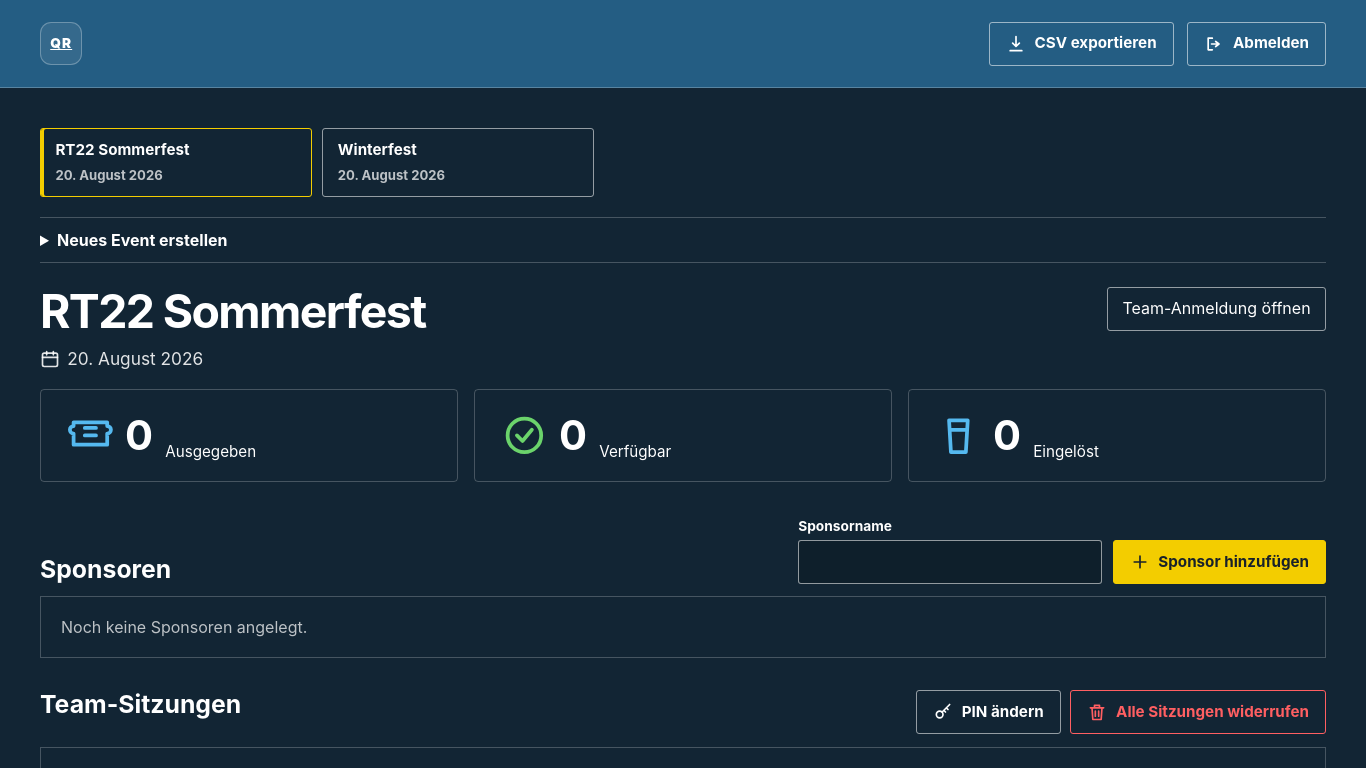
an admin can select another event without retaining stale event details
The width and height of the screenshot is (1366, 768).
Expected: the heading "RT22 Sommerfest" is shown, [40,283,426,339]
Step 1. Click the button "Winterfest 20. August 2026" → click(377, 150), box [322,128,594,197]
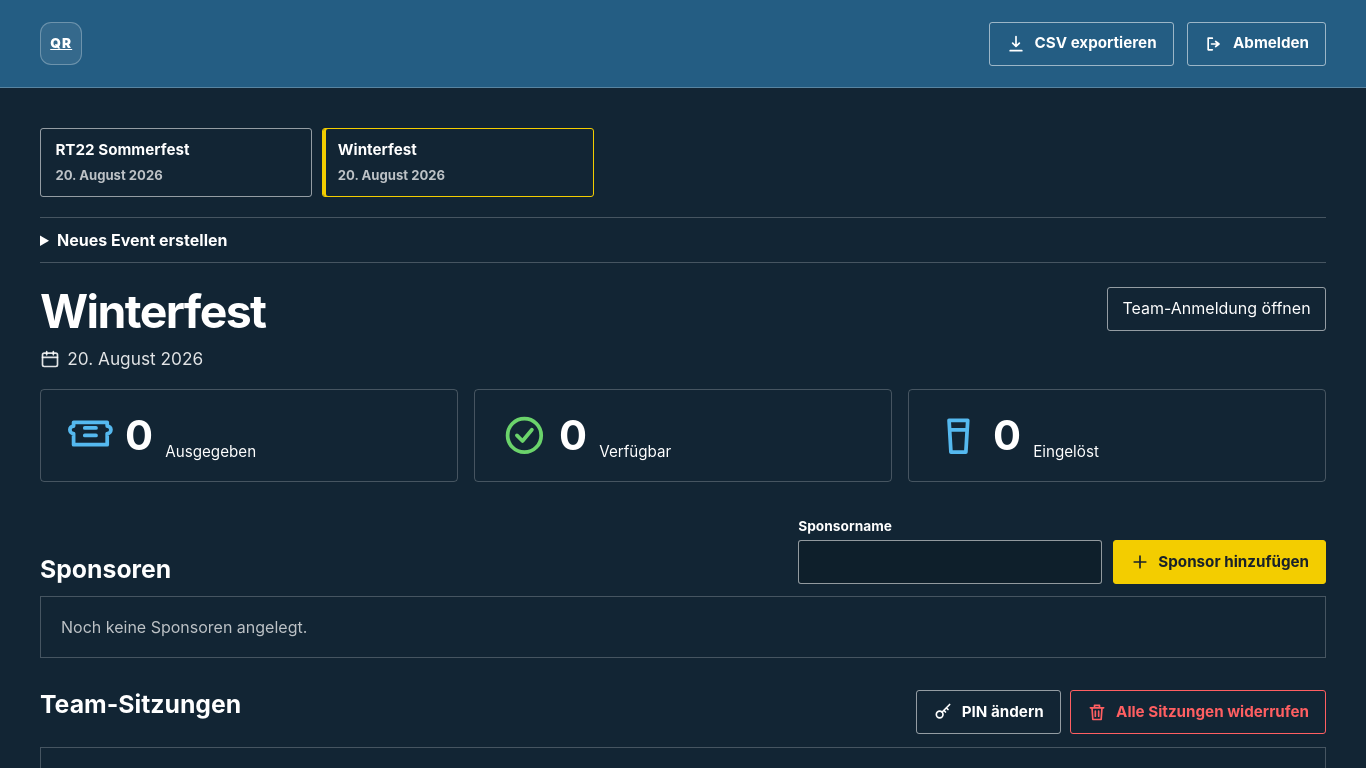
Expected: the heading "Winterfest" is shown, [40,283,265,339]
